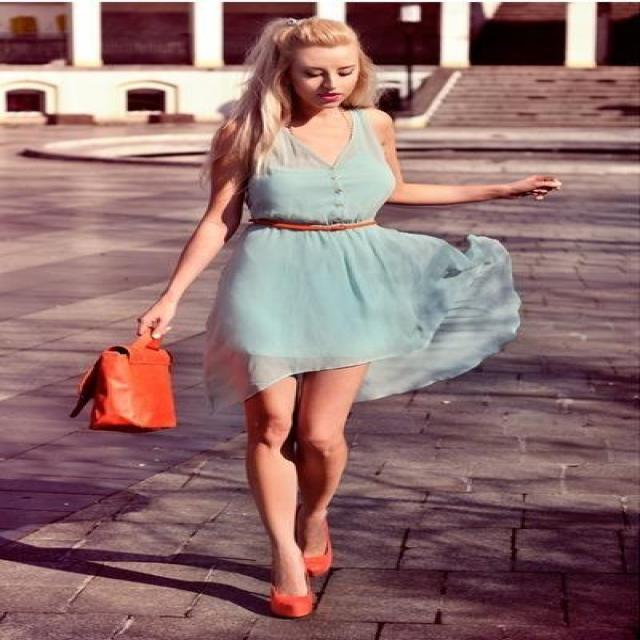bag: (96, 338, 174, 427)
dress: (176, 136, 526, 422)
shoe: (254, 546, 326, 619)
